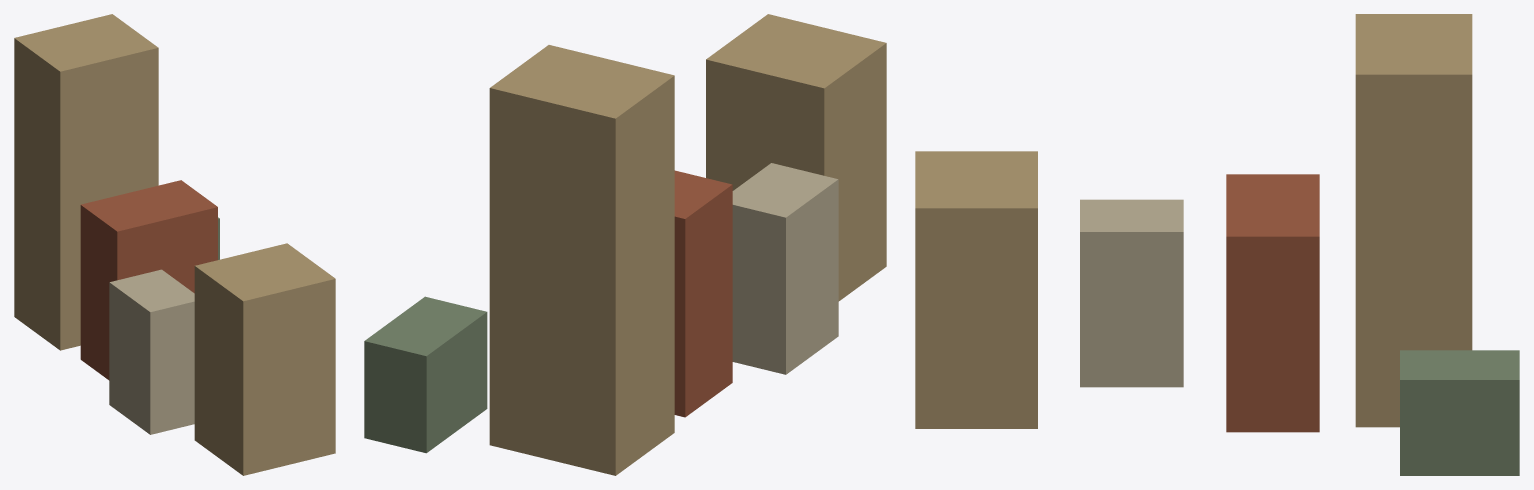
Rendered from synth-19-02.lod2.glb.
The picture shows the model from 3 angles, left to right: view 1: azimuth 30°, elevation 25°; view 2: azimuth 150°, elevation 25°; view 3: azimuth 270°, elevation 25°; orthographic projection. The views are drawn at different scales.
Visible parts, largest first — view 1: synth-19-02; view 2: synth-19-02; view 3: synth-19-02.
Part boxes in pixels (left/top/right/bottom): synth-19-02: left=14, top=14, right=335, bottom=475; synth-19-02: left=364, top=14, right=886, bottom=475; synth-19-02: left=915, top=14, right=1519, bottom=475.
Size of the model in its own units: 37.07 by 50.33 by 78.23.
